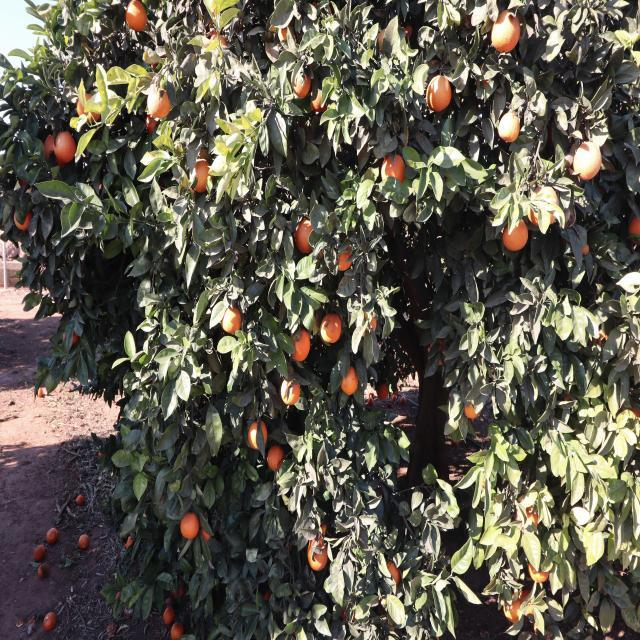Jeruk Sudah Matang: (524, 182, 562, 230), (572, 140, 602, 180), (491, 11, 521, 50), (427, 74, 452, 110), (308, 525, 328, 569), (502, 220, 528, 250), (76, 93, 102, 122), (192, 157, 214, 190), (382, 154, 406, 184), (146, 90, 171, 118), (124, 0, 146, 30), (294, 222, 314, 254), (55, 132, 76, 162), (498, 112, 520, 140), (321, 314, 342, 343), (504, 590, 522, 621), (292, 333, 310, 362), (248, 420, 266, 448), (340, 367, 358, 395), (280, 379, 300, 404), (292, 69, 311, 95), (182, 512, 200, 538), (221, 308, 242, 330), (335, 244, 352, 270), (267, 445, 285, 468), (14, 210, 33, 230), (311, 88, 328, 110), (44, 132, 56, 162), (528, 566, 550, 582), (464, 402, 482, 418), (388, 560, 401, 582), (630, 220, 640, 248), (171, 622, 184, 640), (164, 606, 174, 624), (378, 383, 389, 399), (580, 242, 592, 256), (202, 529, 210, 540)
